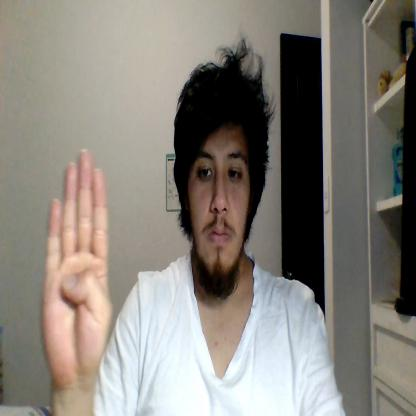B: (40, 148, 114, 382)
